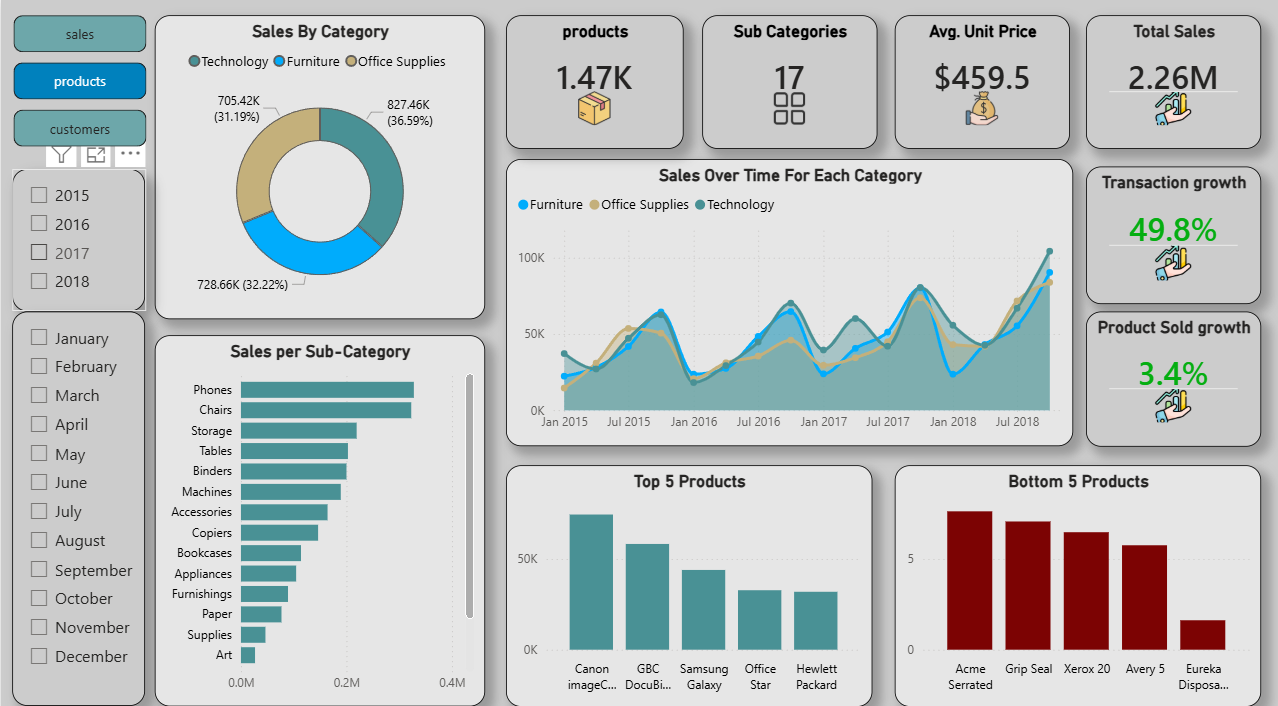

The dashboard page shown, as its layout file describes it:
{"tool":"powerbi","page":{"name":"products","canvas":[1280,720],"ordinal":1},"visuals":[{"type":"donutChart","title":"Sales By Category","fields":{"Category":["Table1.Category"],"Y":["Sum(Table1.Sales)"]},"box":[154.3,15.7,330,304.3],"z":0},{"type":"columnChart","title":"Top 5 Products","fields":{"Y":["Sum(Table1.Sales)"],"Category":["Table1.Product"]},"box":[505,466.2,366.2,241.2],"z":1000},{"type":"slicer","fields":{"Values":["Table1.Order Date.Variation.Date Hierarchy.Year"]},"box":[11.8,170,132.7,142.7],"z":2000},{"type":"slicer","fields":{"Values":["Table1.Order Date.Variation.Date Hierarchy.Month"]},"box":[11.4,312.9,132.9,394.3],"z":3000},{"type":"cardVisual","title":"Avg. Unit Price","fields":{"Data":["Table1.average sales per order"]},"box":[893.8,16.2,175,133.8],"z":4000},{"type":"columnChart","title":"Bottom 5 Products","fields":{"Y":["Sum(Table1.Sales)"],"Category":["Table1.Product"]},"box":[893.8,466.2,366.2,241.2],"z":5000},{"type":"cardVisual","title":"Sub Categories","fields":{"Data":["Count(Table1.Sub-Category)"]},"box":[701.2,16.2,175,133.8],"z":6000},{"type":"areaChart","title":"Sales Over Time For Each Category","fields":{"Category":["Table1.Order Date.Variation.Date Hierarchy.Year","Table1.Order Date.Variation.Date Hierarchy.Quarter","Table1.Order Date.Variation.Date Hierarchy.Month"],"Y":["Sum(Table1.Sales)"],"Series":["Table1.Category"]},"box":[505,160,567.5,287.5],"z":7000},{"type":"barChart","title":"Sales per Sub-Category","fields":{"Category":["Table1.Sub-Category"],"Y":["Sum(Table1.Sales)"]},"box":[153.8,336.2,330,371.2],"z":8000},{"type":"cardVisual","title":"products","fields":{"Data":["Count(Table1.Product)"]},"box":[505,16.2,177.5,133.8],"z":9000},{"type":"cardVisual","title":"Total Sales","fields":{"Data":["Sum(Table1.Sales)"]},"box":[1085,16.2,175,133.8],"z":10000},{"type":"pageNavigator","box":[12.5,16.2,133.8,133.8],"z":11000},{"type":"cardVisual","title":"Transaction growth","fields":{"Data":["Table1.Transaction Growth"]},"box":[1085,167.5,175,137.5],"z":12000},{"type":"cardVisual","title":"Product Sold growth","fields":{"Data":["Table1.products Growth"]},"box":[1085,312.5,175,135],"z":13000}]}

Visuals, with their boxes in screenshot pixels (x1, y1, x2, y2), scaled from the page's 1280x720 canvas onto the 1278x706 screenshot:
"Sales By Category" donutChart: box=[154, 15, 484, 314]
"Top 5 Products" columnChart: box=[504, 457, 870, 694]
slicer - Table1.Order Date.Variation.Date Hierarchy.Year: box=[12, 167, 144, 307]
slicer - Table1.Order Date.Variation.Date Hierarchy.Month: box=[11, 307, 144, 693]
"Avg. Unit Price" cardVisual: box=[892, 16, 1067, 147]
"Bottom 5 Products" columnChart: box=[892, 457, 1258, 694]
"Sub Categories" cardVisual: box=[700, 16, 875, 147]
"Sales Over Time For Each Category" areaChart: box=[504, 157, 1071, 439]
"Sales per Sub-Category" barChart: box=[154, 330, 483, 694]
"products" cardVisual: box=[504, 16, 681, 147]
"Total Sales" cardVisual: box=[1083, 16, 1258, 147]
pageNavigator: box=[12, 16, 146, 147]
"Transaction growth" cardVisual: box=[1083, 164, 1258, 299]
"Product Sold growth" cardVisual: box=[1083, 306, 1258, 439]
